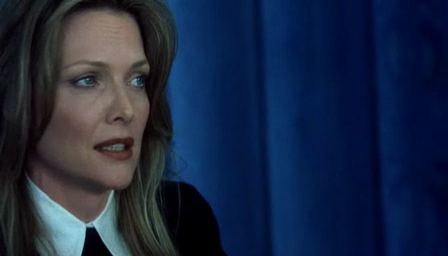cu: (1, 1, 448, 256)
face: (38, 21, 150, 189)
person: (1, 1, 228, 255)
